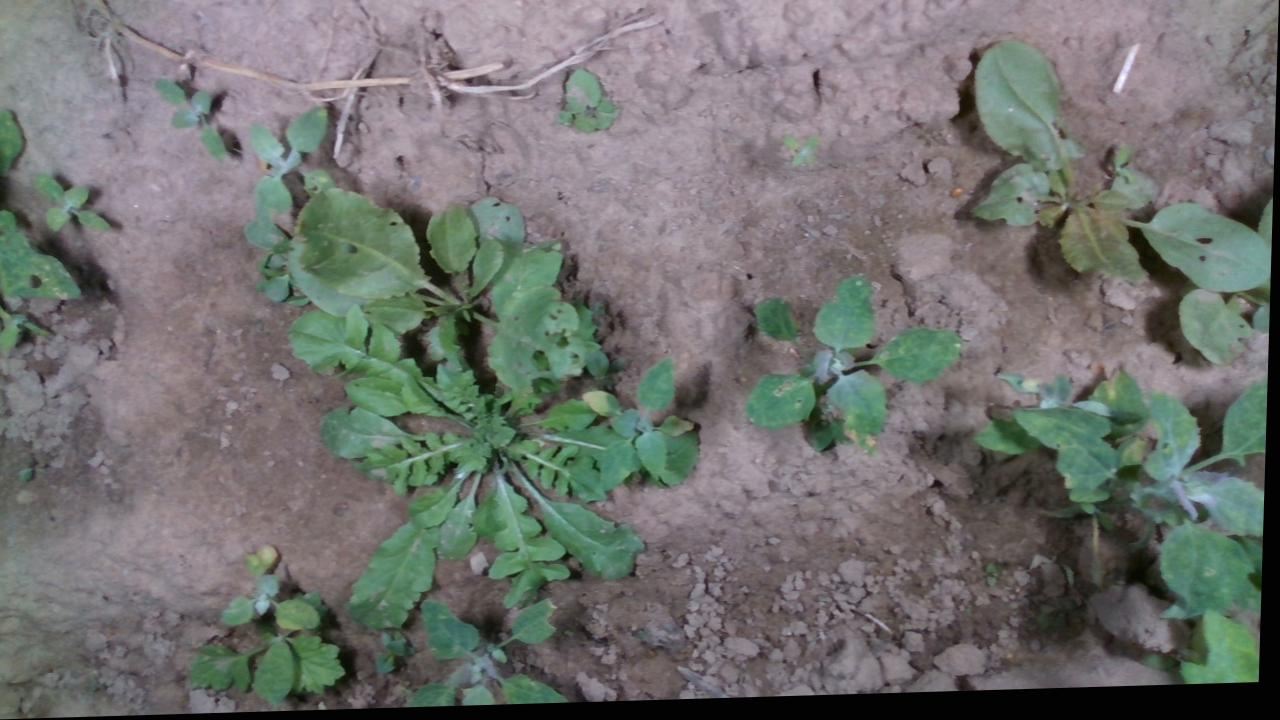weed: (781, 135, 825, 179)
